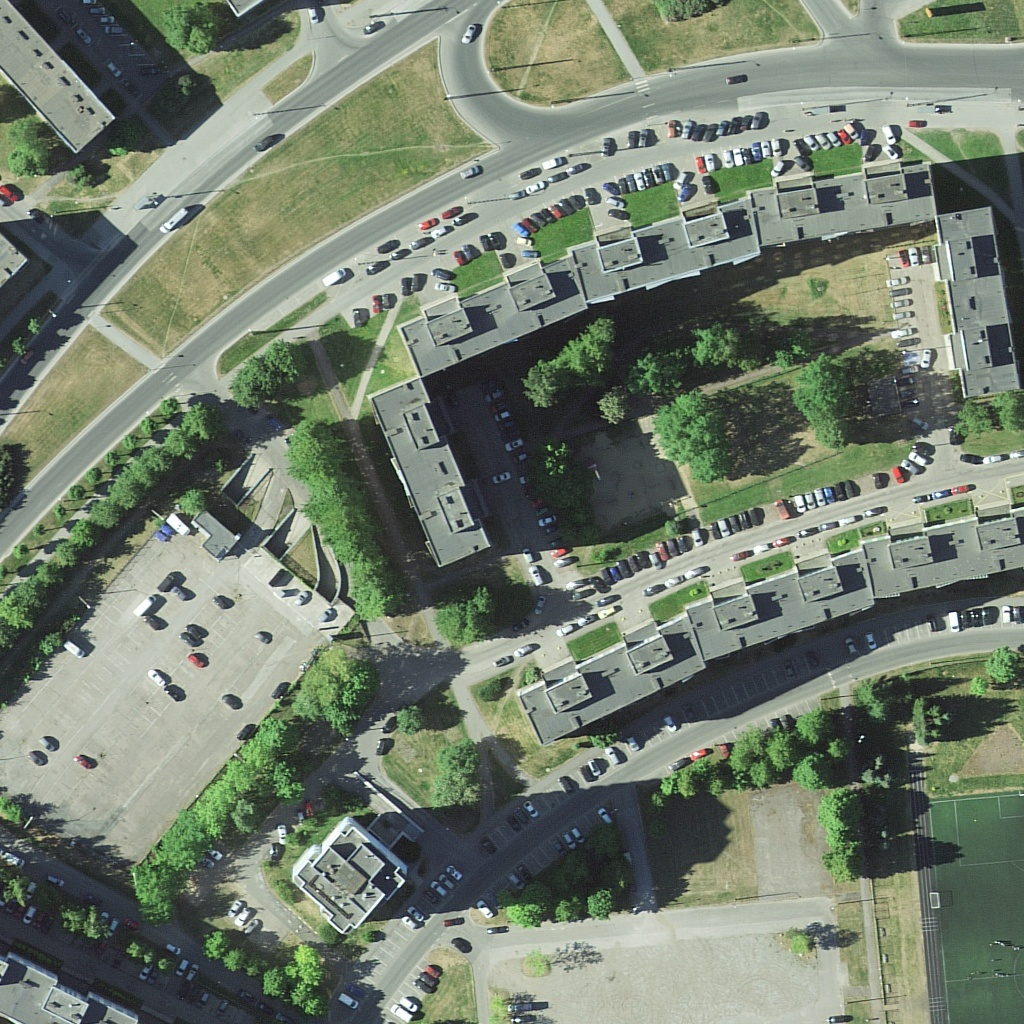building: (521, 612, 708, 743), (371, 376, 496, 571), (400, 258, 587, 376), (688, 544, 878, 657), (570, 196, 761, 304), (937, 204, 1024, 410), (1, 1, 118, 149), (748, 158, 930, 245), (862, 502, 1018, 597), (300, 819, 405, 936)
